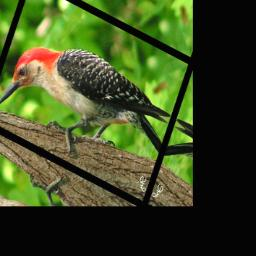Woodpecker: (0, 17, 178, 197)
